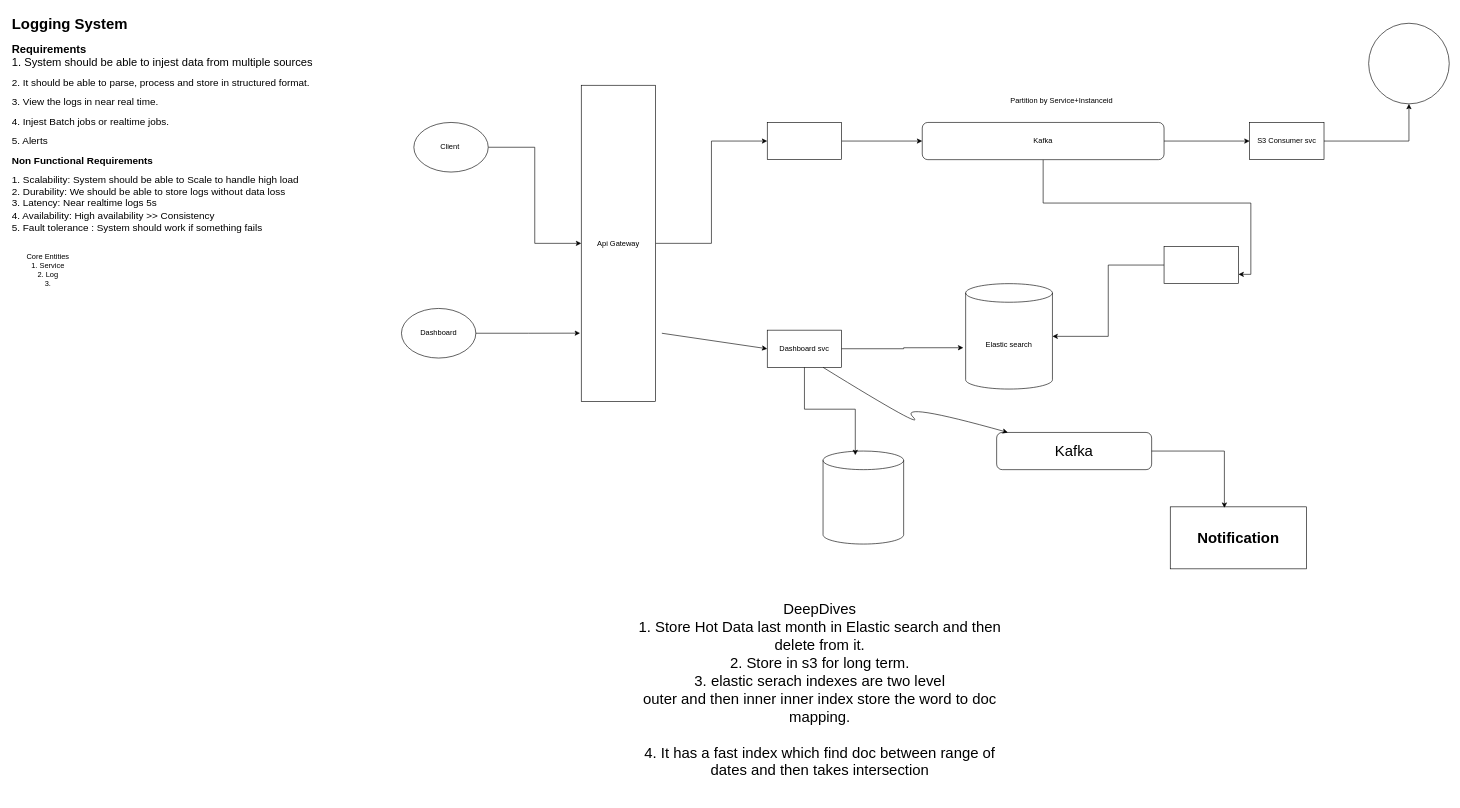
Image size: 1460x808. Some labels were removed from this diagram. Here are the shapes that lost their labels. From the top down, the centre of each, then its label:
At (1408,63): "S3".
At (804,141): "Ingestion Svc".
At (1200,265): "Post Processing svc".
At (863,497): "ALerts DB".
